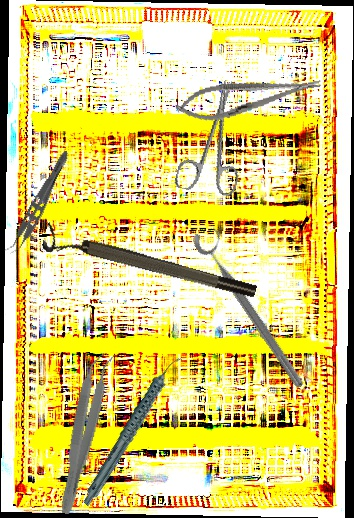Fixation Ring: (188, 221, 318, 392), (40, 222, 259, 310)
Handpiece: (56, 354, 209, 507)
Iris Scissors: (173, 73, 261, 202)
Needle Holder: (172, 66, 325, 128)
Tissue Forceps: (54, 349, 117, 518), (2, 145, 73, 259)
